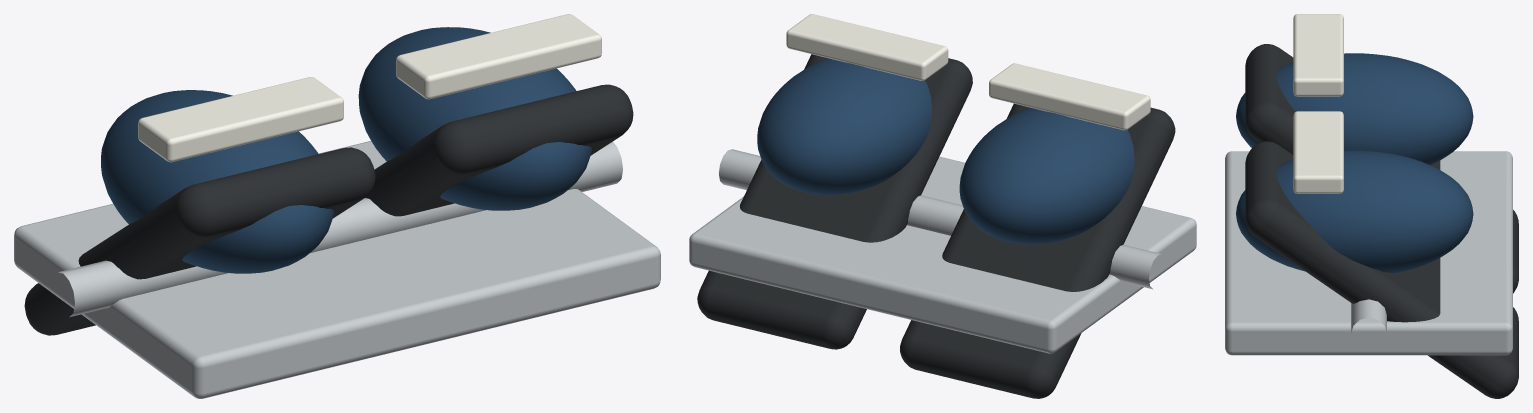
Rendered from rowing-boathouse-and-regatta-course-foot-stretcher-c53ae0bc__32137.glb.
The picture shows the model from 3 angles, left to right: view 1: azimuth 30°, elevation 25°; view 2: azimuth 150°, elevation 25°; view 3: azimuth 270°, elevation 25°; orthographic projection. The views are drawn at different scales.
Parts seen in each view (by area): view 1: foot-stretcher; view 2: foot-stretcher; view 3: foot-stretcher.
Boxes of the visible parts, bbox=[...] form: foot-stretcher: bbox=[14, 14, 660, 398]; foot-stretcher: bbox=[689, 14, 1196, 398]; foot-stretcher: bbox=[1225, 14, 1518, 398].
Size of the model in its own units: 0.34 by 0.173 by 0.2041.
